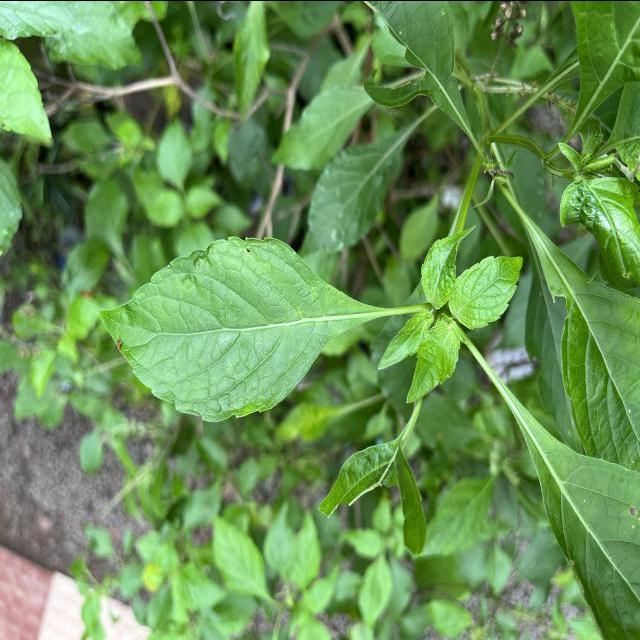Ocimum gratissimum: (94, 232, 404, 424)
